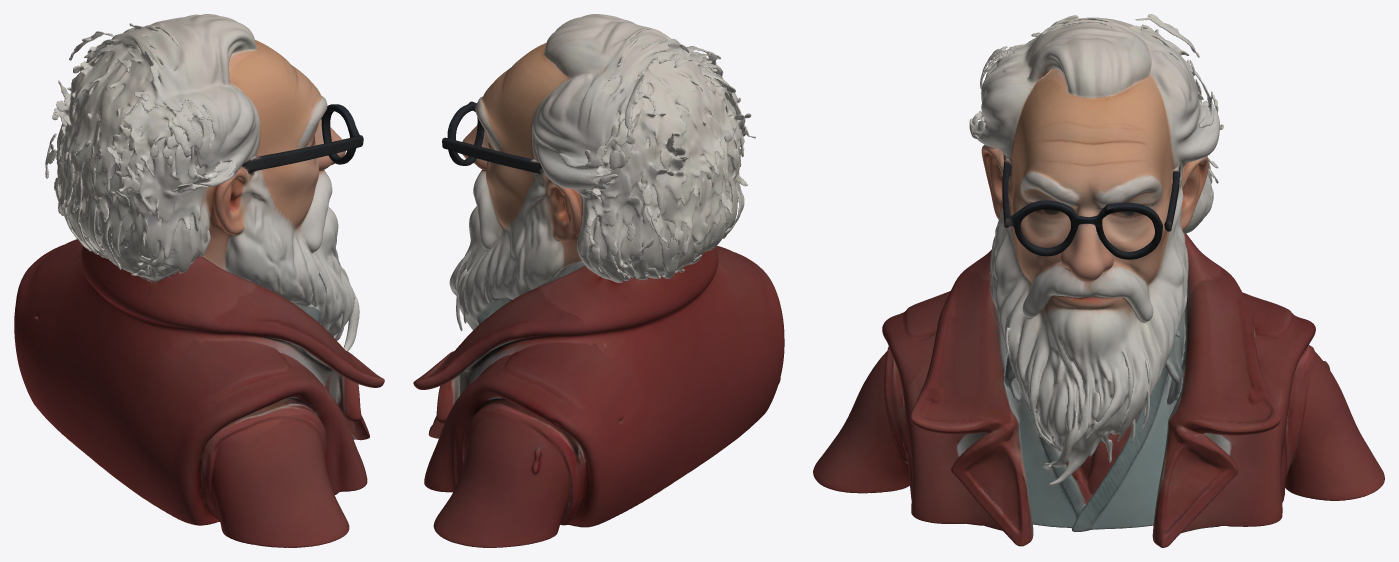
File: detailed_realistic_model_albusdumbledore_18.glb
The picture shows the model from 3 angles, left to right: view 1: azimuth 30°, elevation 25°; view 2: azimuth 150°, elevation 25°; view 3: azimuth 270°, elevation 25°; orthographic projection. The views are drawn at different scales.
Visible parts, largest first — view 1: tripo_node_80d5758e-fb6f-4ef4-b672-cef6a0db2ae4; view 2: tripo_node_80d5758e-fb6f-4ef4-b672-cef6a0db2ae4; view 3: tripo_node_80d5758e-fb6f-4ef4-b672-cef6a0db2ae4.
Part boxes in pixels (bbox=[...]): tripo_node_80d5758e-fb6f-4ef4-b672-cef6a0db2ae4: bbox=[14, 14, 384, 547]; tripo_node_80d5758e-fb6f-4ef4-b672-cef6a0db2ae4: bbox=[413, 14, 784, 547]; tripo_node_80d5758e-fb6f-4ef4-b672-cef6a0db2ae4: bbox=[813, 14, 1384, 547].
Size of the model in its own units: 0.597 by 0.8523 by 1.
Materials: 1 (1 with a texture image).
